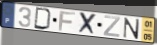3: (18, 7, 32, 28)
D: (33, 7, 53, 31)
F: (58, 10, 77, 32)
N: (122, 17, 141, 40)
X: (77, 11, 98, 37)
Z: (103, 15, 121, 38)
